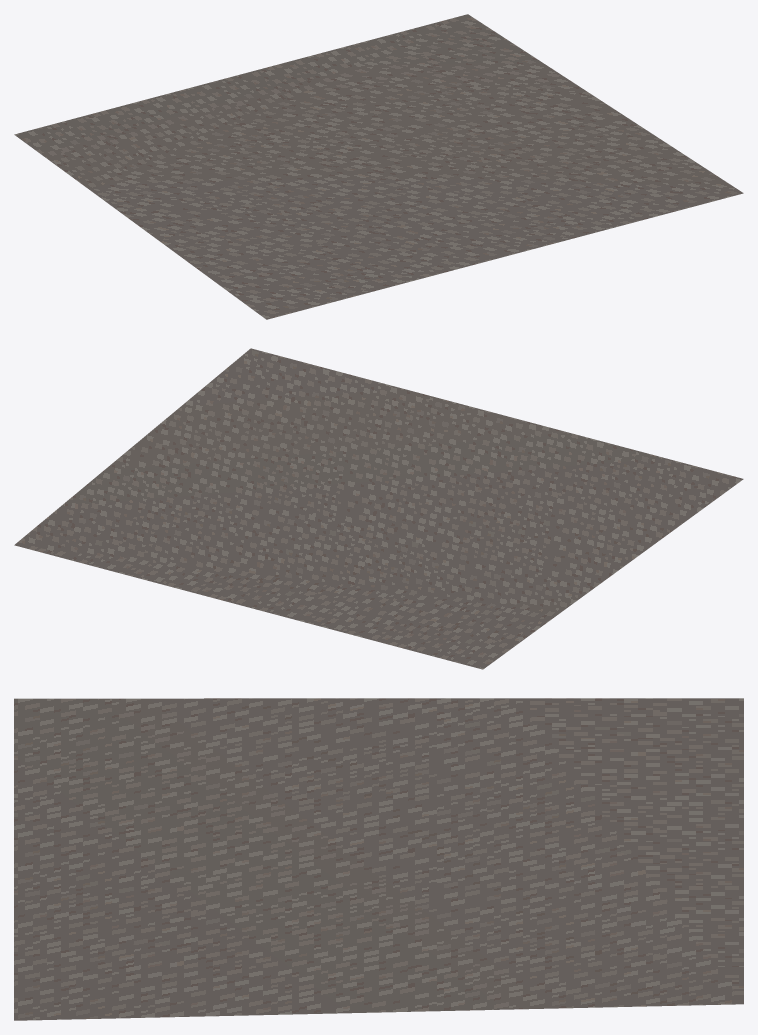
Rendered from kd_stage_135c43_4_143_bounded_piece_3.glb.
The picture shows the model from 3 angles, top to bottom: view 1: azimuth 30°, elevation 25°; view 2: azimuth 150°, elevation 25°; view 3: azimuth 270°, elevation 25°; orthographic projection. The views are drawn at different scales.
Visible parts, largest first — view 1: kd_stage_135c43_4_143_bounded_piece_3; view 2: kd_stage_135c43_4_143_bounded_piece_3; view 3: kd_stage_135c43_4_143_bounded_piece_3.
Boxes of the visible parts, <box> form: kd_stage_135c43_4_143_bounded_piece_3: <box>14,14,743,319</box>; kd_stage_135c43_4_143_bounded_piece_3: <box>14,348,743,669</box>; kd_stage_135c43_4_143_bounded_piece_3: <box>14,698,743,1020</box>.
Size of the model in its own units: 0.7786 by 0.0156 by 0.7137.
Materials: 1 (1 with a texture image).
